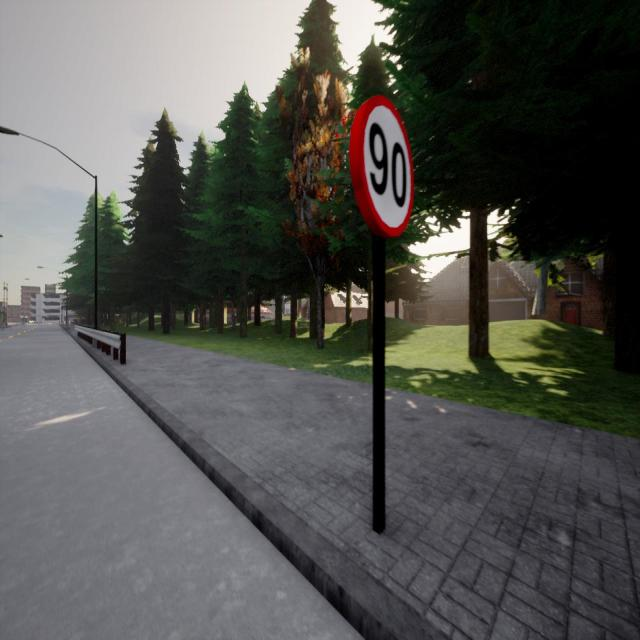Traffic_Signs: (348, 96, 414, 236)
